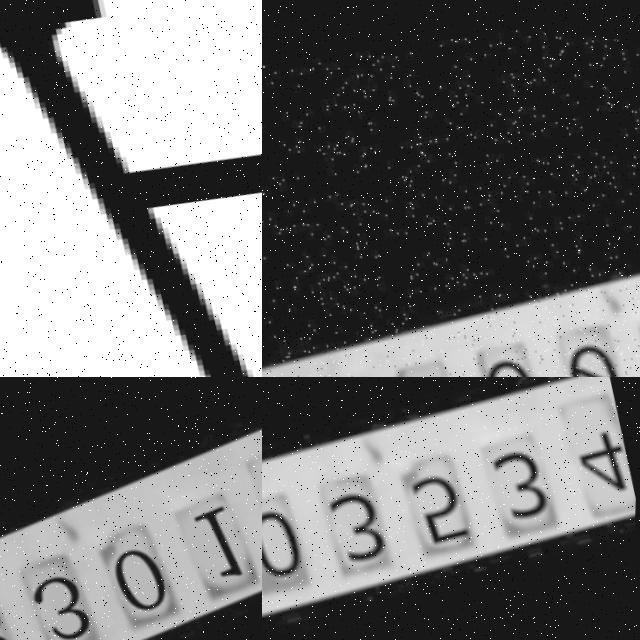0: (89, 510, 187, 633), (262, 480, 320, 597), (549, 316, 637, 377), (467, 330, 555, 377)
1: (167, 475, 262, 597)
3: (474, 418, 564, 532), (312, 464, 402, 577), (11, 540, 111, 640)
4: (557, 391, 639, 511)
5: (392, 442, 482, 558)
6: (389, 355, 471, 377)
A: (0, 0, 262, 377)
